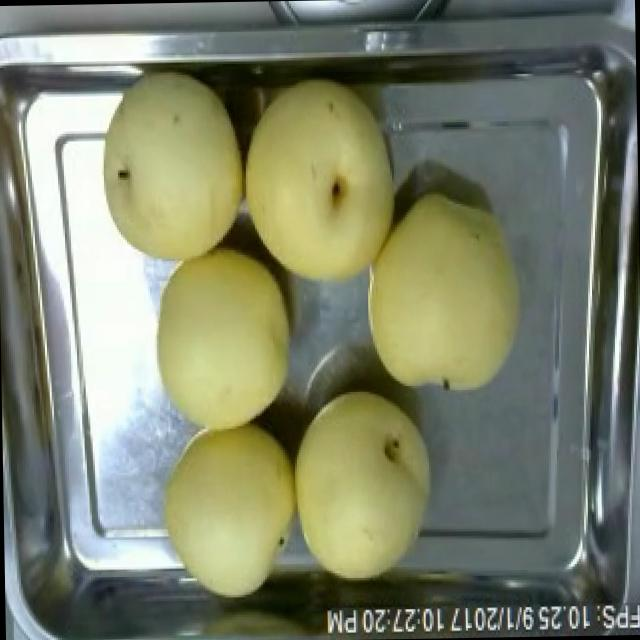Fruit: (228, 68, 408, 302), (356, 188, 532, 402), (84, 66, 255, 276), (279, 380, 443, 589), (142, 233, 306, 440), (150, 414, 309, 608)
